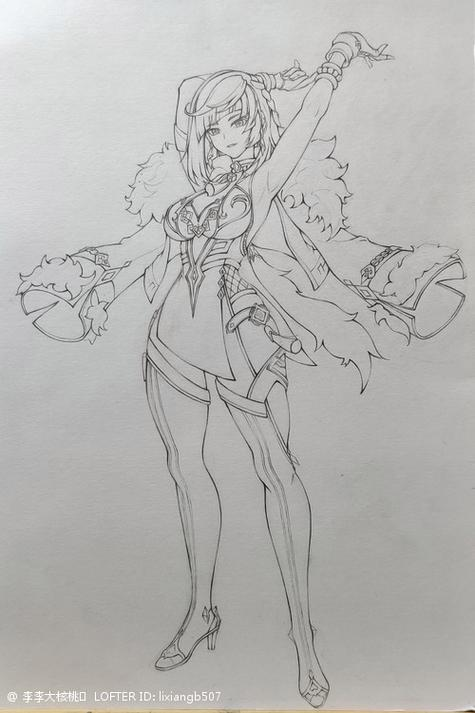夜兰: (143, 25, 403, 708)
